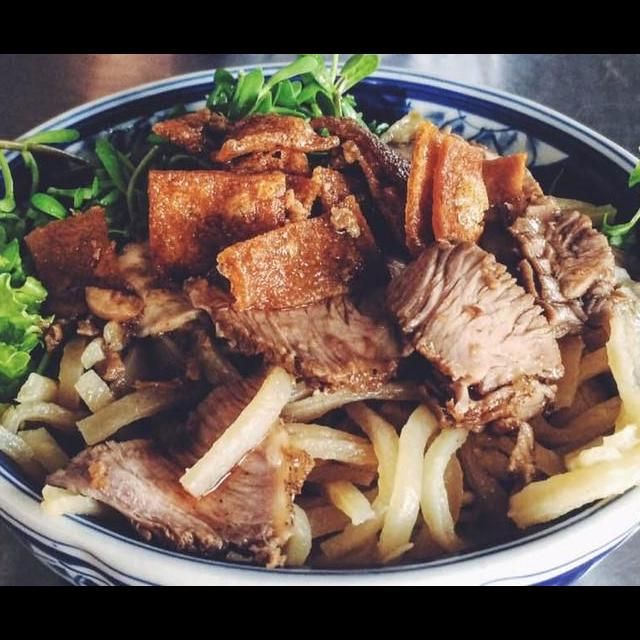banh da: (326, 252, 524, 361), (412, 370, 640, 453), (387, 208, 569, 304), (289, 130, 512, 202), (554, 212, 640, 336)
mi: (0, 404, 313, 562), (0, 79, 310, 237), (0, 291, 246, 422)
mi quang: (0, 98, 640, 586)
thit heo: (56, 354, 458, 476), (0, 142, 254, 318), (178, 231, 443, 388), (259, 434, 524, 524)
